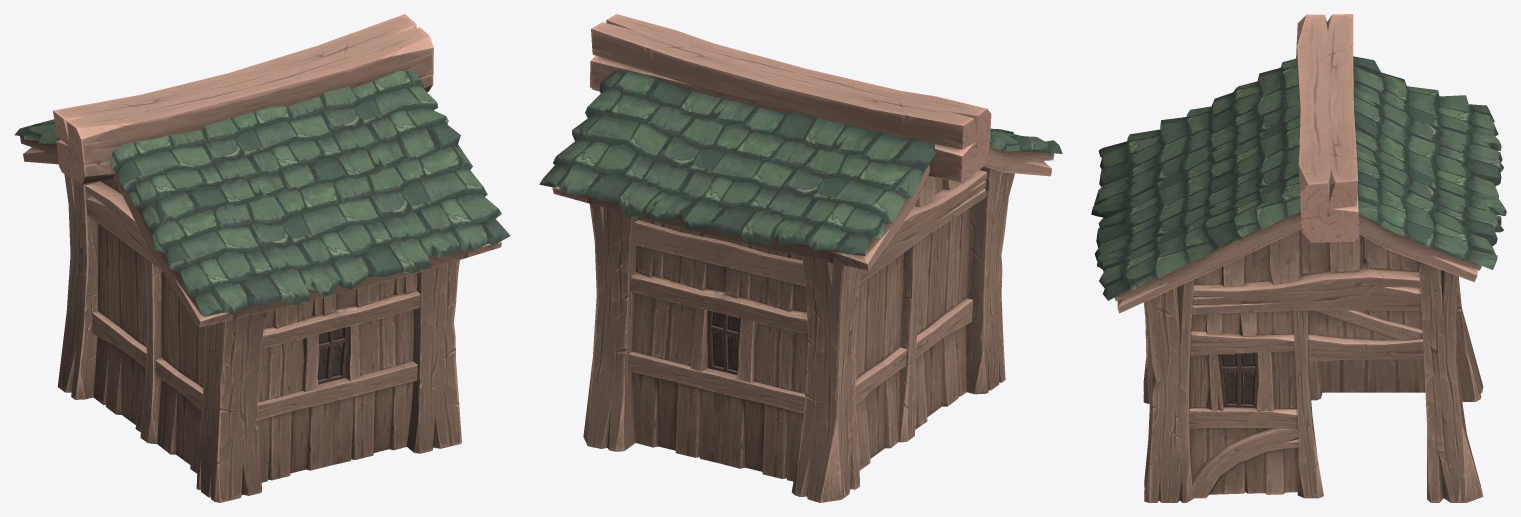
The picture shows the model from 3 angles, left to right: view 1: azimuth 30°, elevation 25°; view 2: azimuth 150°, elevation 25°; view 3: azimuth 270°, elevation 25°; orthographic projection. The views are drawn at different scales.
Bounding box in the file's own units: 6.26 × 5.74 × 6.26.
Materials: 2 (2 with a texture image).
